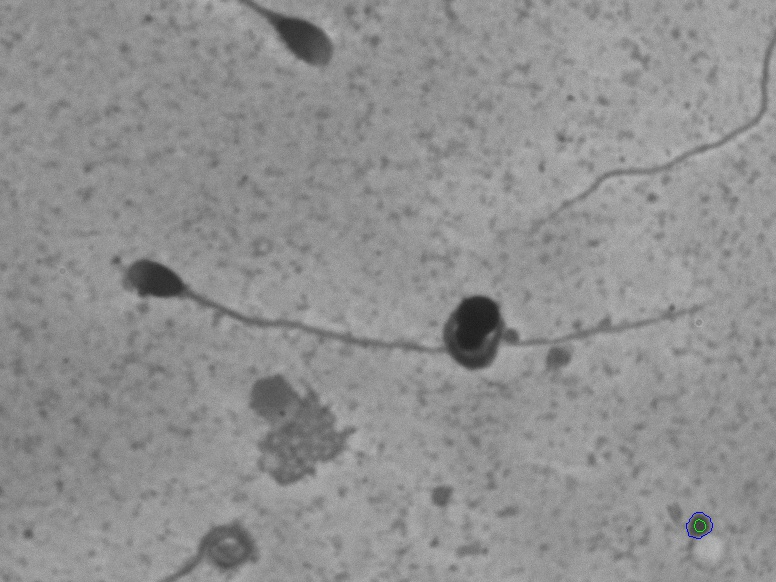Normal: (120, 249, 727, 358)
